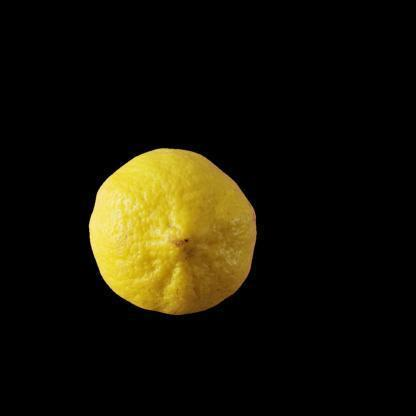lemon: (89, 147, 257, 315)
